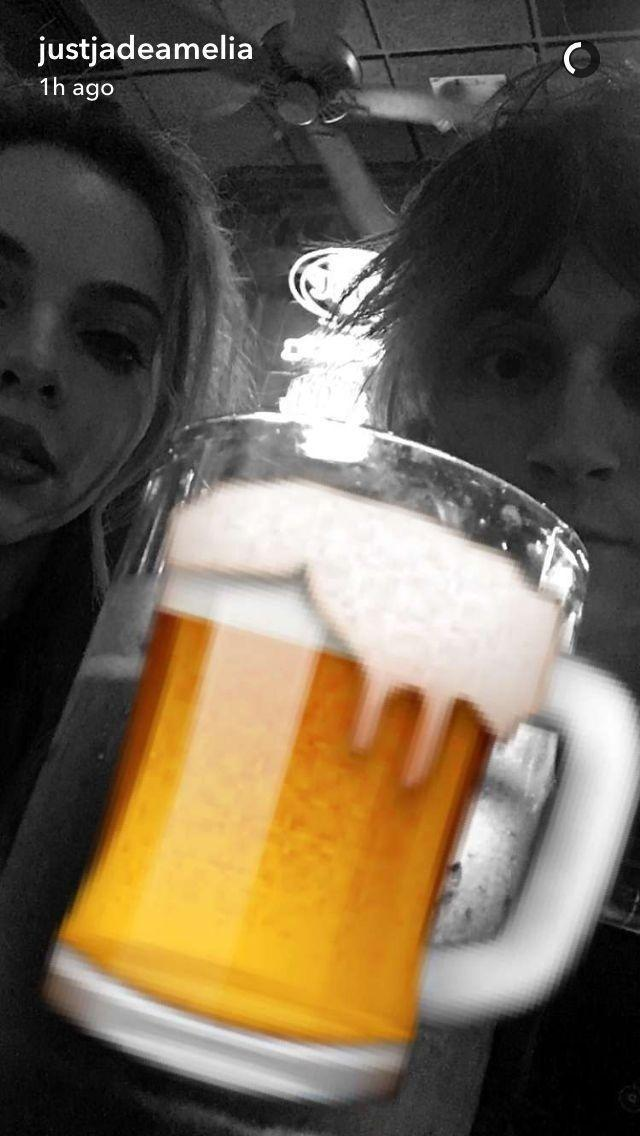glass-mug: (24, 395, 615, 1117)
